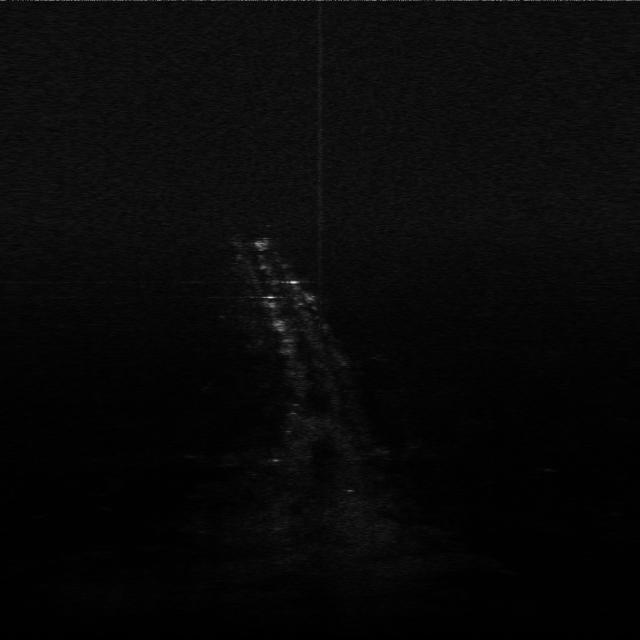rov: (249, 236, 273, 252)
